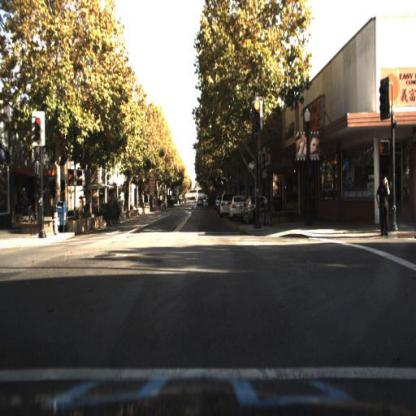car: (242, 198, 269, 229), (231, 202, 250, 235), (219, 191, 236, 225), (231, 200, 246, 220), (221, 195, 229, 219), (196, 199, 206, 213)
pedestrian: (382, 178, 398, 243), (377, 172, 391, 237), (254, 200, 266, 242), (19, 193, 28, 225)
trafficLight-Red: (252, 99, 263, 135), (34, 115, 43, 150)
